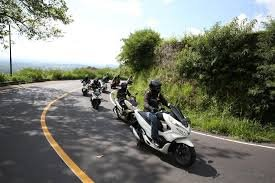motor: (131, 108, 204, 166)
